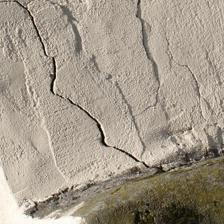Crack: (10, 57, 64, 171), (17, 45, 47, 157)
